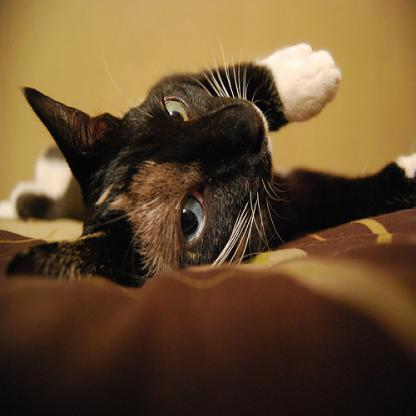cat: (0, 31, 415, 288)
